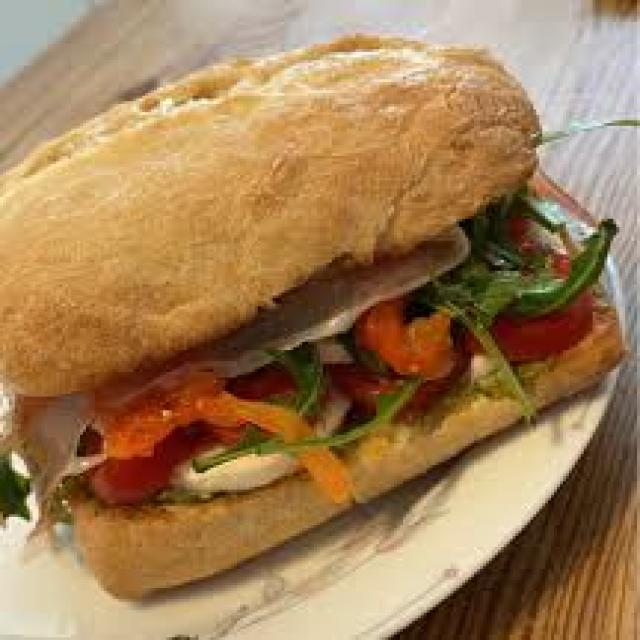Burger: (0, 120, 579, 576)
